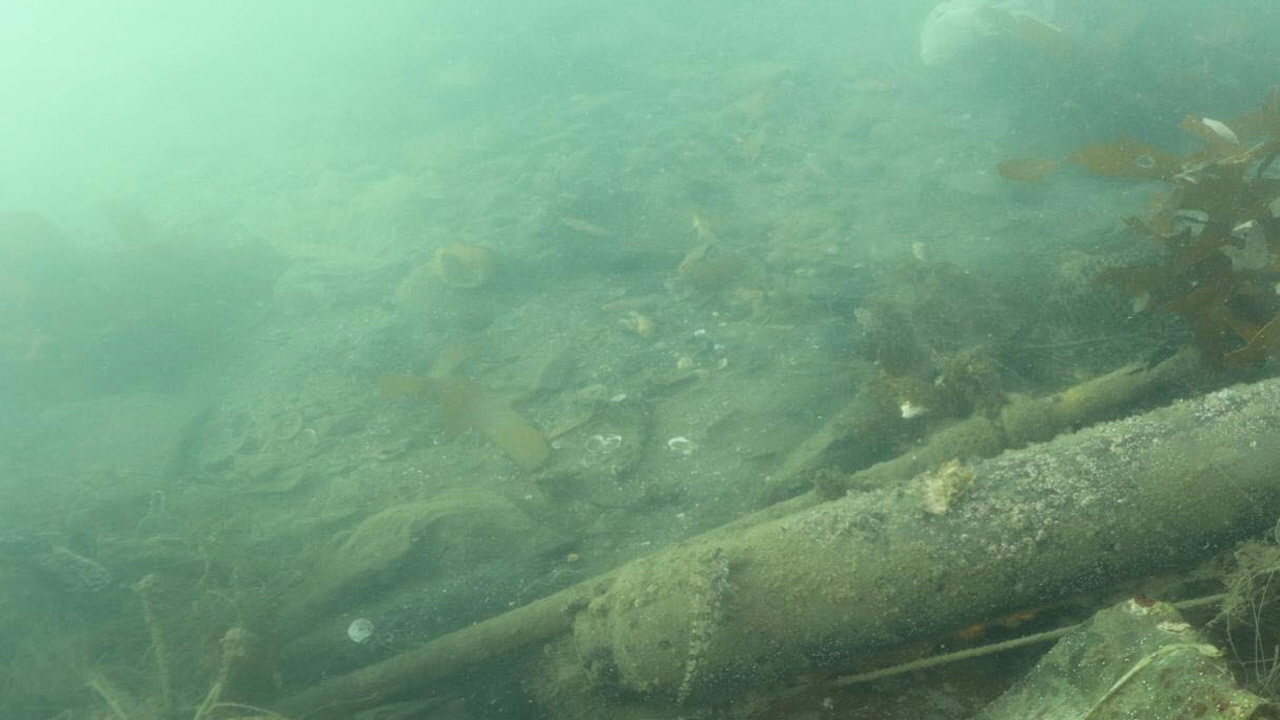eel fish trap: (570, 372, 1278, 714)
